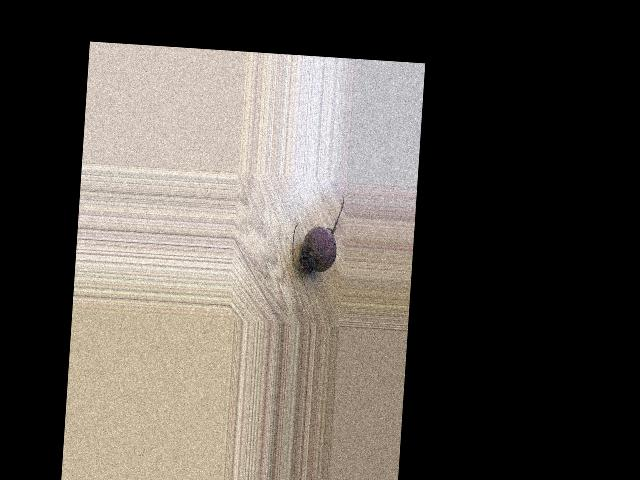beet: (291, 193, 344, 275)
